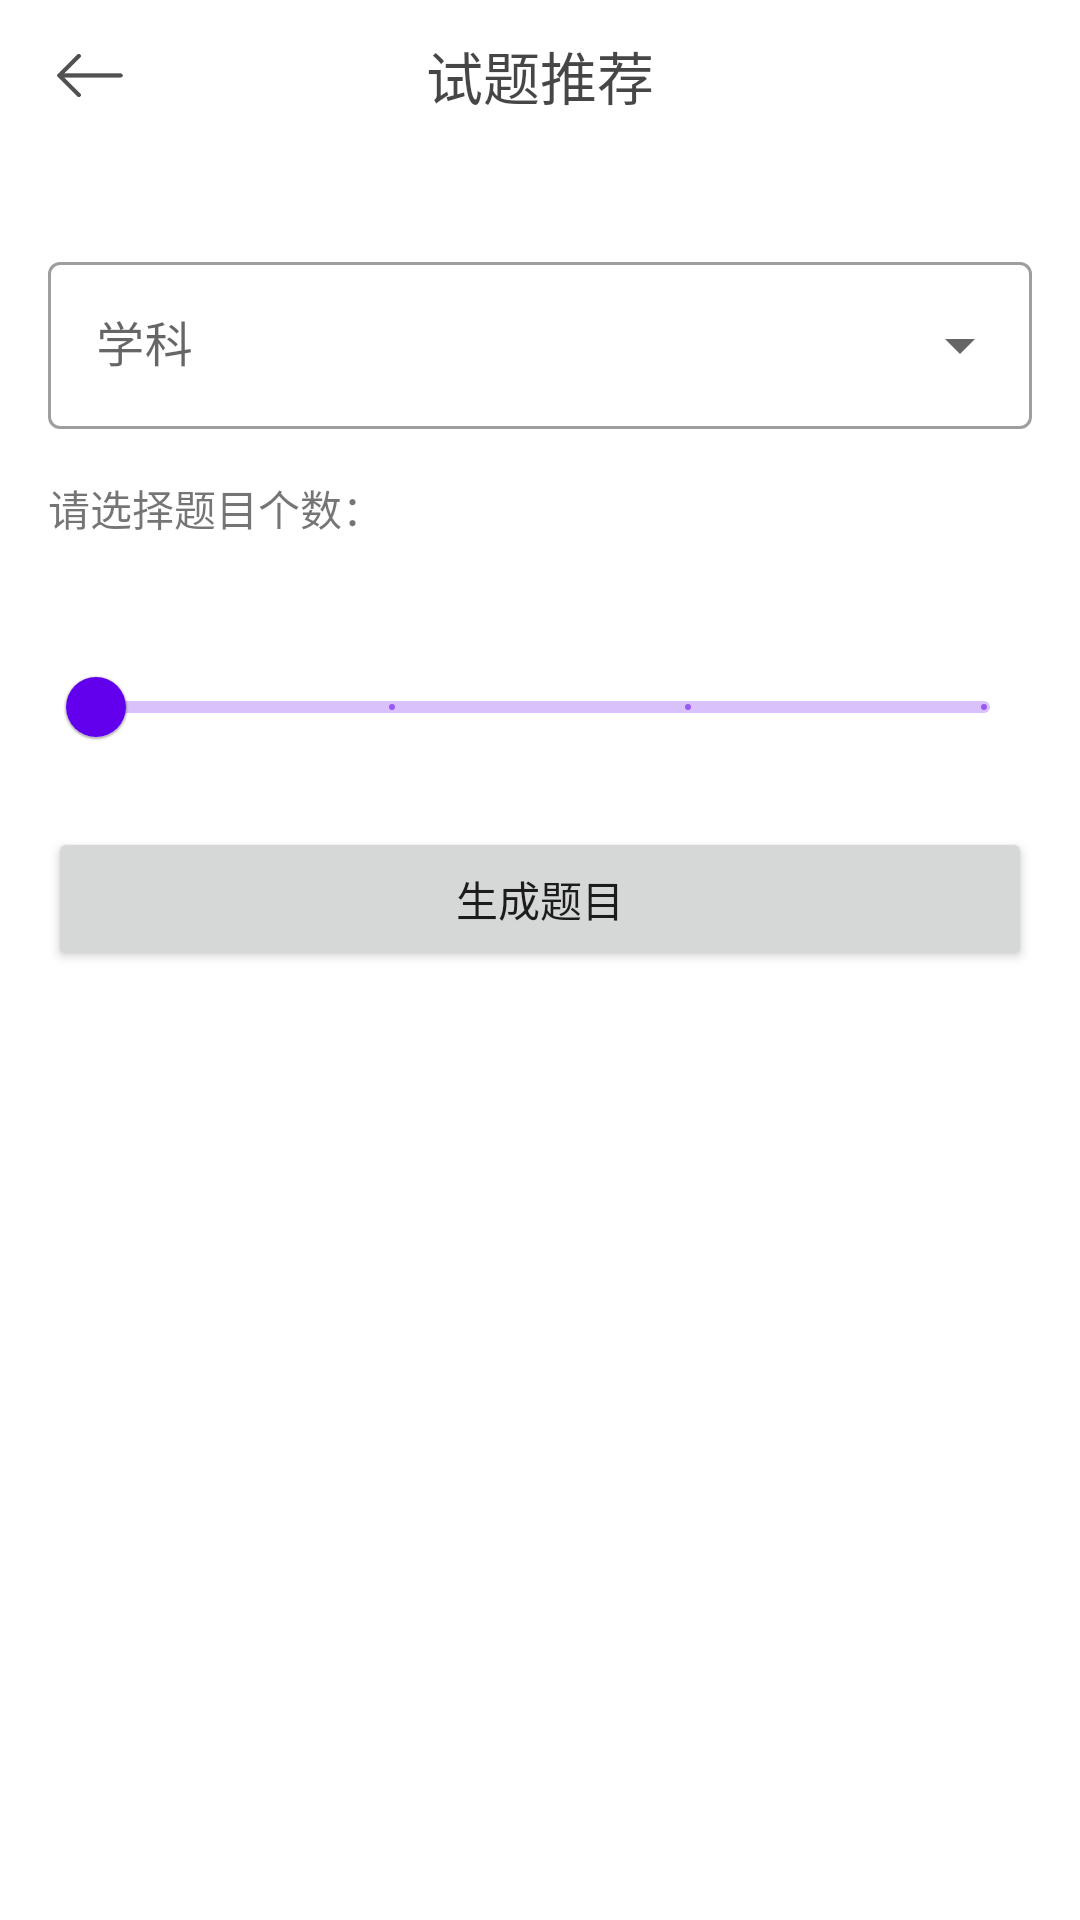

Icons on this 1080px x 1920px Android screen, each with its box as (x1, y1, x2, y2):
backward arrow: (57, 54, 123, 97)
